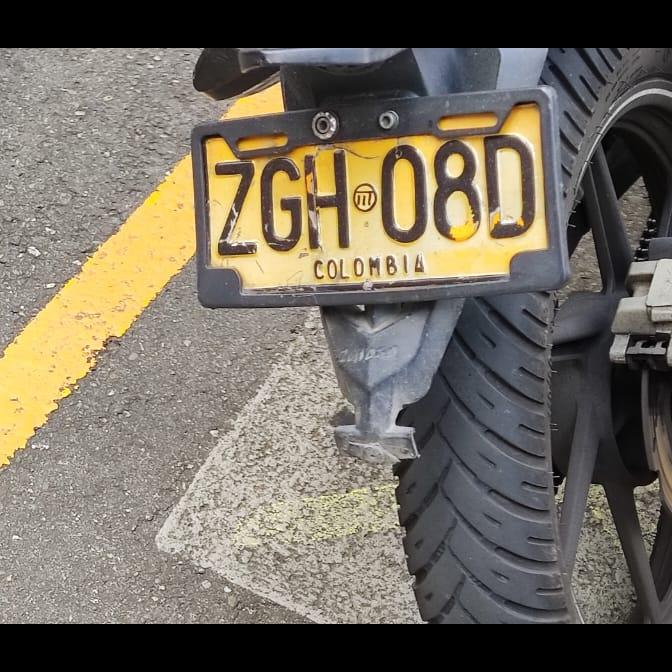plates: (196, 99, 556, 299)
